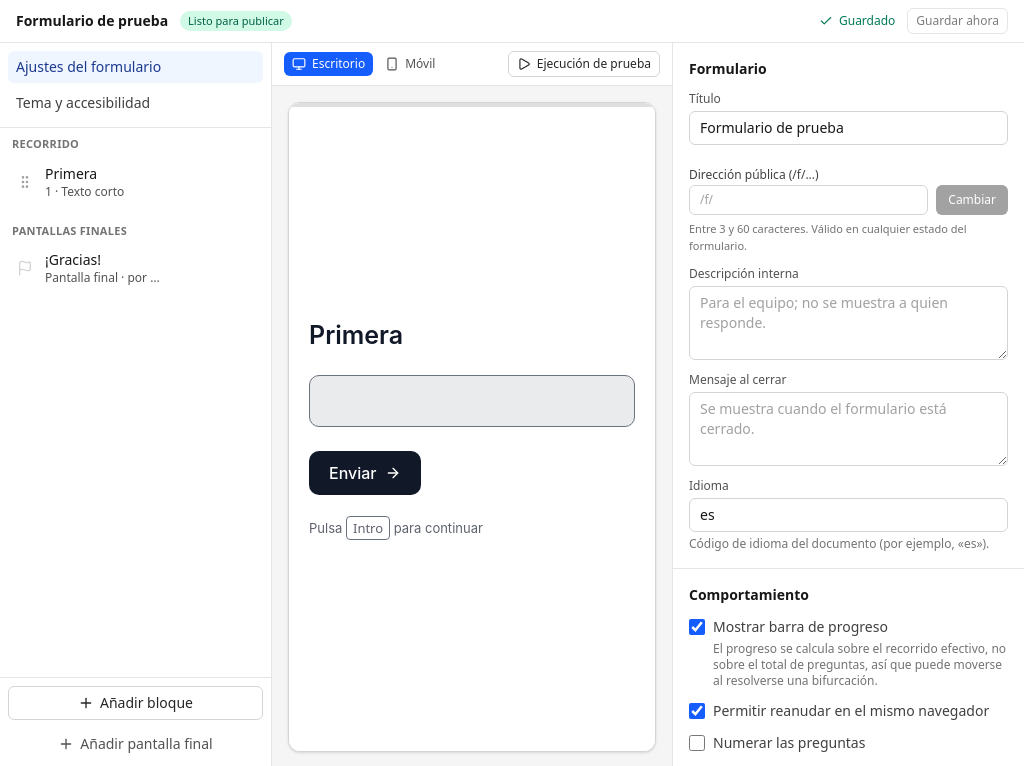
Test case: construir un formulario › añadir un bloque lo selecciona y lo enseña
What coordinates should you click on to do the following:
click the button "Añadir bloque"
I would click on:
 (136, 703)
Its box is [8, 686, 263, 720].
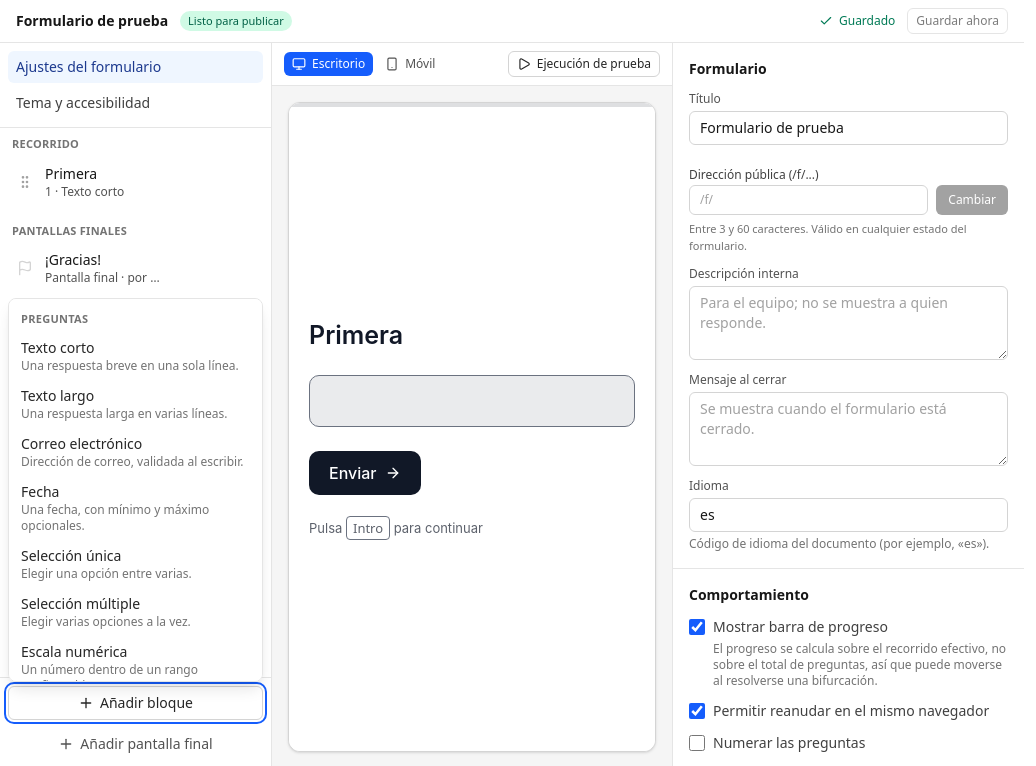
What coordinates should you click on to do the following:
click the button "Selección única Elegir una opción entre varias."
I would click on:
 (136, 564)
Its box is [13, 540, 258, 588].
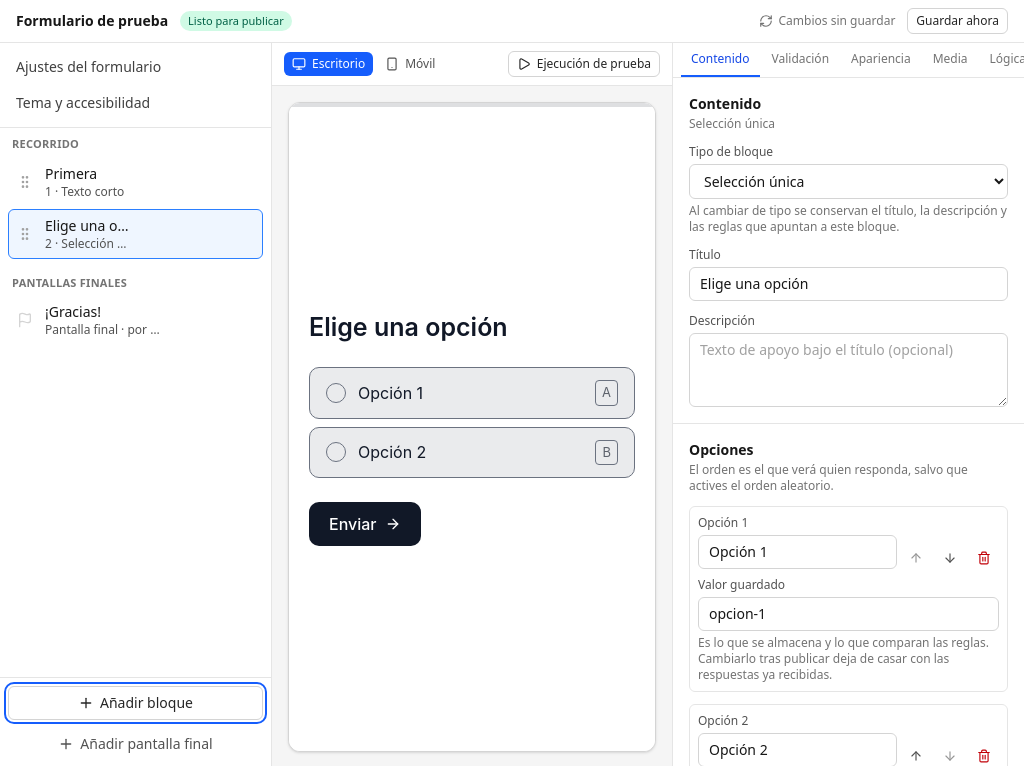
Now the text "Elige una opción" is shown, box [45, 216, 130, 236]
Now the element showing "Opción 1 A Opción 2 B" is shown, box [309, 367, 635, 478]
